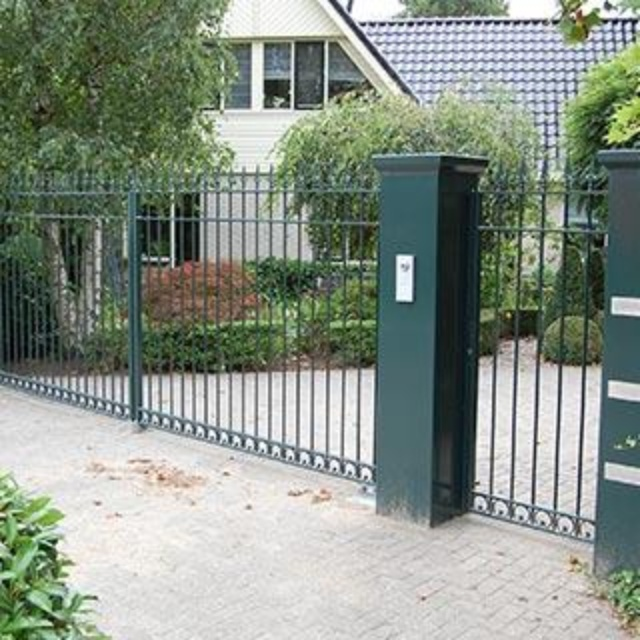obstacle: (59, 25, 640, 638)
